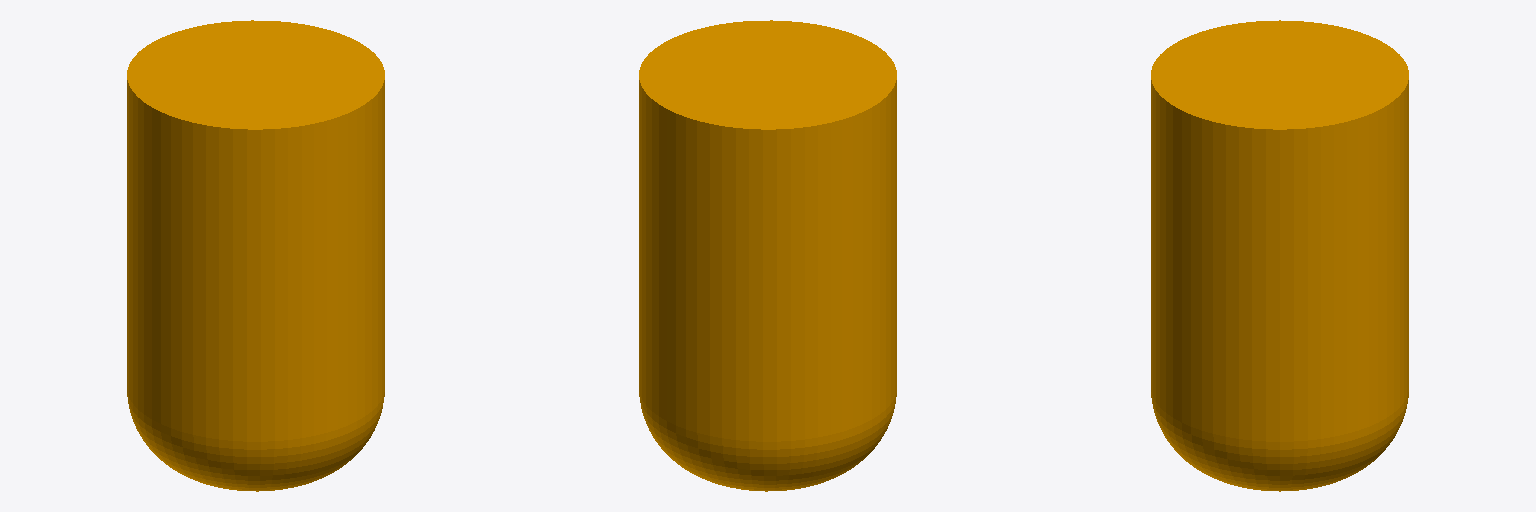
URDF robot description (cylinder):
<?xml version="1.0"?>
<!-- GENERATED from cylinder.yaml by `object_models generate`. Do not edit. -->
<!-- status: provisional. Body frame = CAD frame of cylinder.yaml. -->
<robot name="cylinder">
  <link name="cylinder">
    <visual>
      <geometry>
        <mesh filename="package://irb120_models/objects/cylinder/meshes/cylinder.stl"/>
      </geometry>
    </visual>
    <collision>
      <geometry>
        <mesh filename="package://irb120_models/objects/cylinder/meshes/cylinder.stl"/>
      </geometry>
    </collision>
  </link>
</robot>

--- Facts derived from the render (not from the file) ---
Views: 3 orthographic renders of the robot side by side, from view 1: azimuth 30°, elevation 25°; view 2: azimuth 150°, elevation 25°; view 3: azimuth 270°, elevation 25°.
Model cylinder with 1 links and 0 joints (none), rooted at cylinder, posed all joints at 0.
Links seen in each view (by area): view 1: cylinder; view 2: cylinder; view 3: cylinder.
Boxes of the visible links, bbox=[...] form: cylinder: bbox=[127, 20, 384, 491]; cylinder: bbox=[639, 20, 896, 491]; cylinder: bbox=[1151, 20, 1408, 491].
Bounding box of the posed robot: 0.06 × 0.0599 × 0.1 m (x, y, z).
Meshes: 1 distinct files referenced, 1 mesh visuals loaded (1 binary STL).
